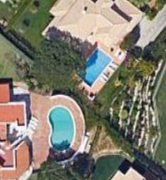pool: (49, 108, 73, 148), (81, 57, 113, 76)
